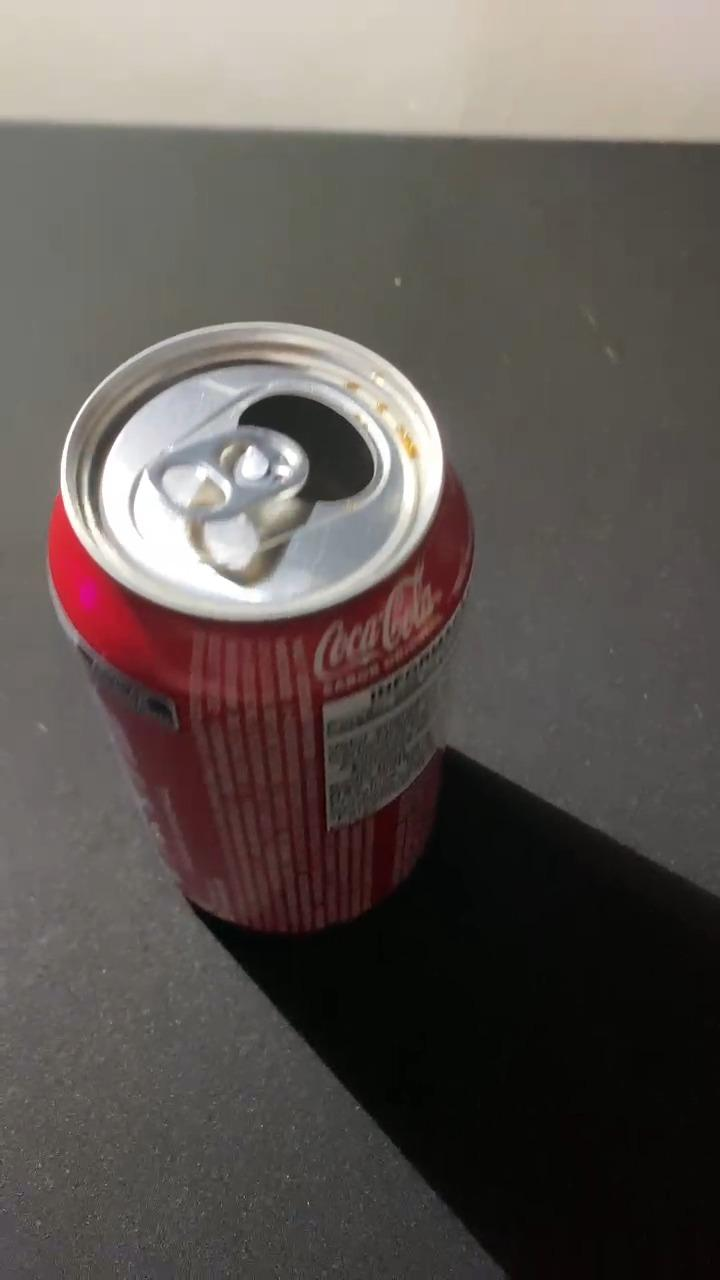coke: (46, 324, 476, 938)
